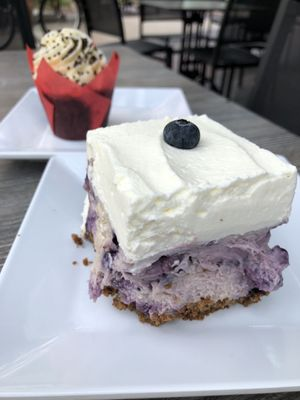curry: (0, 27, 300, 376)
pasta: (210, 0, 280, 99), (139, 1, 185, 69)
sushi: (81, 112, 295, 327), (31, 29, 122, 141)
